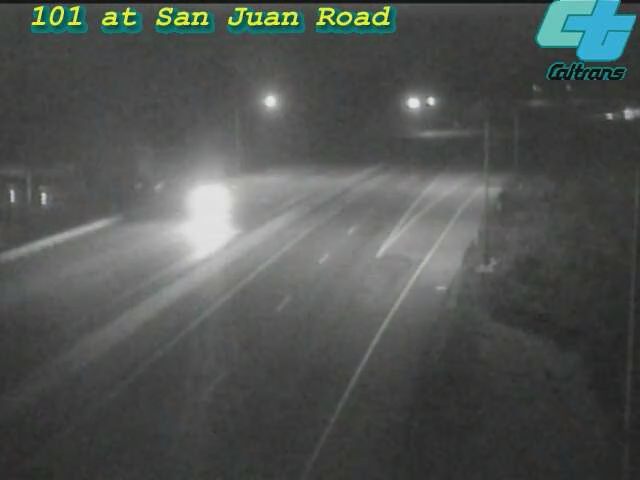vehicle: (166, 171, 246, 251), (604, 89, 640, 139)
